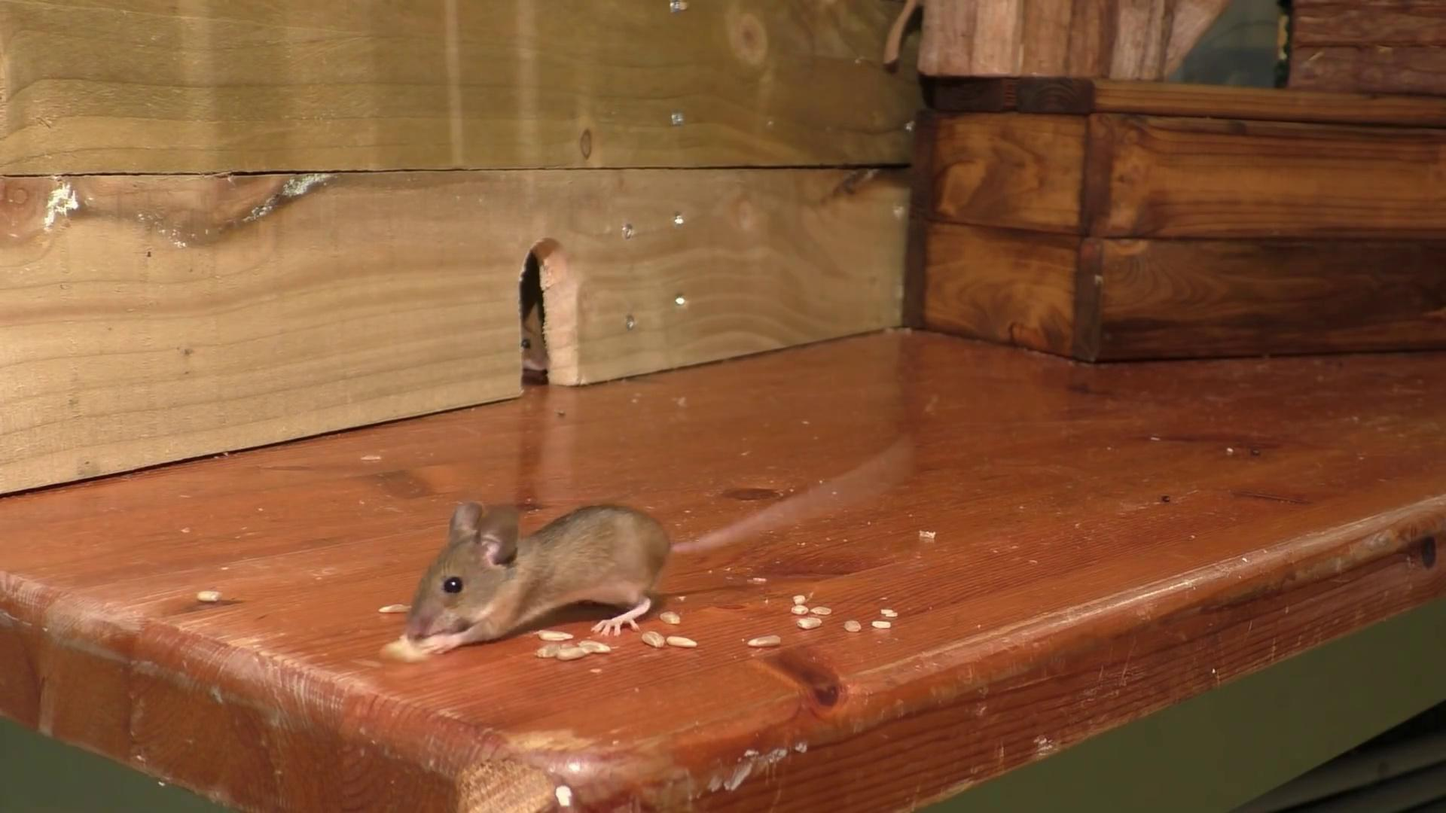rat: (404, 440, 910, 653), (517, 304, 551, 371)
